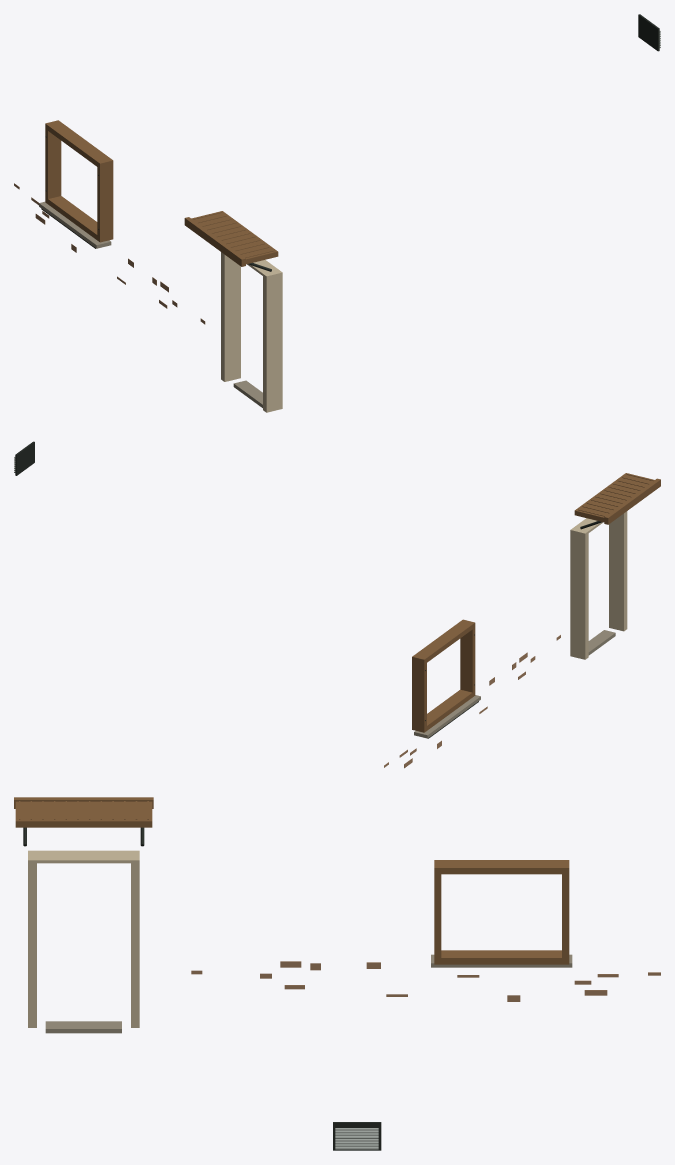
Rendered from SM_Homes_H01_Fixtures.fbx.
3 views of the same model, one above another, from view 1: azimuth 30°, elevation 25°; view 2: azimuth 150°, elevation 25°; view 3: azimuth 270°, elevation 25° (orthographic). The views are drawn at different scales.
Visible parts, largest first — view 1: SM_Homes_H01_Fixtures; view 2: SM_Homes_H01_Fixtures; view 3: SM_Homes_H01_Fixtures.
Boxes of the visible parts, x1,y1,x2,y2 form: SM_Homes_H01_Fixtures: [14, 14, 660, 412]; SM_Homes_H01_Fixtures: [14, 441, 660, 768]; SM_Homes_H01_Fixtures: [14, 797, 660, 1150].
Bounding box in the file's own units: 9.71 × 8.05 × 2.88.
